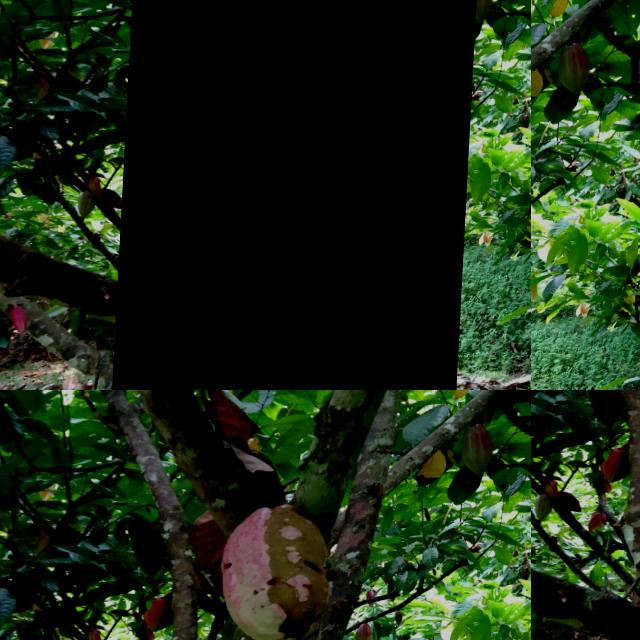Monilia: (117, 0, 483, 390)
Sana: (0, 466, 87, 640), (384, 410, 476, 553), (441, 390, 496, 464), (171, 539, 218, 605), (38, 494, 91, 527), (144, 540, 165, 603), (605, 452, 629, 488), (92, 632, 150, 640), (539, 496, 556, 523), (15, 451, 38, 470), (549, 483, 563, 503), (592, 516, 605, 536), (605, 516, 612, 529)
